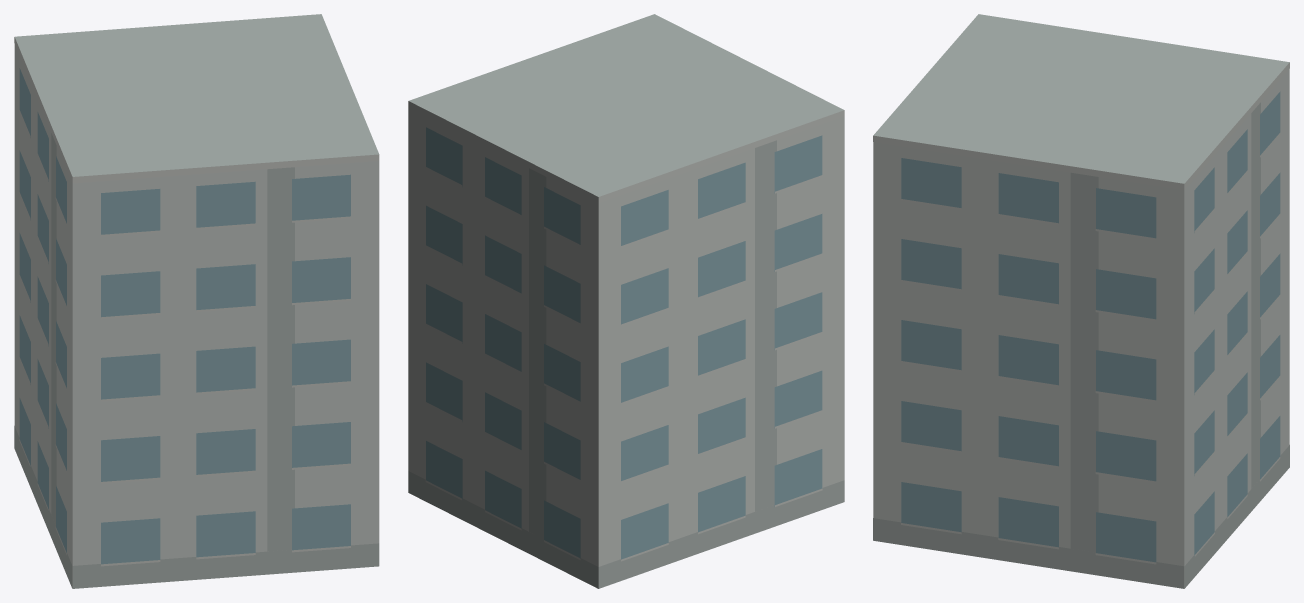
The model's file is residential-ca2959b6-fe8e-40a3-bfac-e453ae5231fe.glb.
The picture shows the model from 3 angles, left to right: view 1: azimuth 30°, elevation 25°; view 2: azimuth 150°, elevation 25°; view 3: azimuth 270°, elevation 25°; orthographic projection. The views are drawn at different scales.
Parts seen in each view (by area): view 1: residential-ca2959b6-fe8e-40a3-bfac-e453ae5231fe.tmp; view 2: residential-ca2959b6-fe8e-40a3-bfac-e453ae5231fe.tmp; view 3: residential-ca2959b6-fe8e-40a3-bfac-e453ae5231fe.tmp.
Boxes of the visible parts, box(x1,y1,x2,y2) form: residential-ca2959b6-fe8e-40a3-bfac-e453ae5231fe.tmp: box(14, 14, 379, 588); residential-ca2959b6-fe8e-40a3-bfac-e453ae5231fe.tmp: box(408, 14, 844, 588); residential-ca2959b6-fe8e-40a3-bfac-e453ae5231fe.tmp: box(873, 14, 1289, 588).
Bounding box in the file's own units: 13.72 × 15.25 × 14.23.
